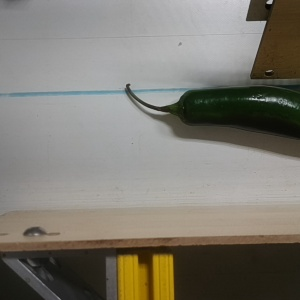Cut Point: (166, 90, 197, 129)
